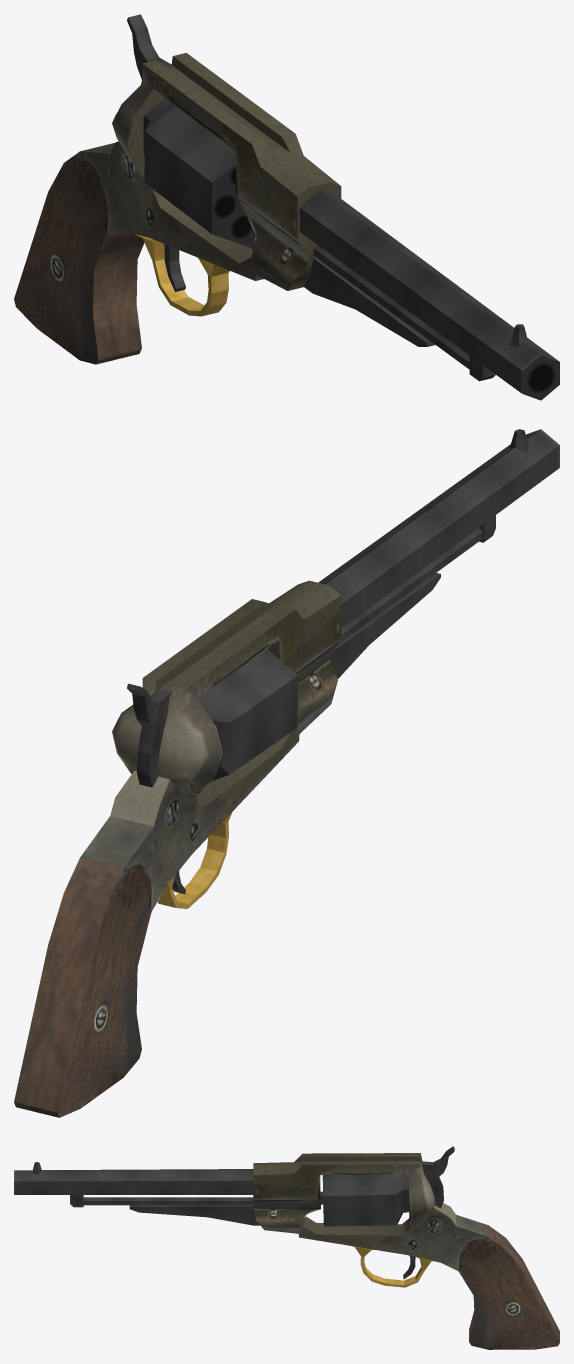
Rendered from ps1_style_revolver.glb.
The picture shows the model from 3 angles, top to bottom: view 1: azimuth 30°, elevation 25°; view 2: azimuth 150°, elevation 25°; view 3: azimuth 270°, elevation 25°; orthographic projection. The views are drawn at different scales.
Parts seen in each view (by area): view 1: Cube, Cylinder, Cylinder.001, Cube.003, Cube.002, Cylinder.002, Cube.001, Cube.005; view 2: Cube, Cylinder, Cylinder.001, Cube.001, Cube.003, Cube.002, Cylinder.002; view 3: Cube, Cylinder, Cylinder.001, Cube.003, Cylinder.002, Cube.001, Cube.002.
Boxes of the visible parts, bbox=[...] form: Cube: bbox=[14, 53, 341, 364]; Cylinder: bbox=[299, 190, 559, 400]; Cylinder.001: bbox=[143, 97, 255, 248]; Cube.003: bbox=[303, 257, 435, 346]; Cube.002: bbox=[135, 234, 229, 316]; Cylinder.002: bbox=[313, 245, 469, 369]; Cube.001: bbox=[127, 14, 172, 84]; Cube.005: bbox=[164, 244, 185, 291]; Cube: bbox=[14, 580, 341, 1117]; Cylinder: bbox=[318, 429, 559, 628]; Cylinder.001: bbox=[197, 649, 297, 780]; Cube.001: bbox=[127, 683, 171, 787]; Cube.003: bbox=[330, 573, 440, 678]; Cube.002: bbox=[157, 812, 232, 908]; Cylinder.002: bbox=[337, 528, 482, 644]; Cube: bbox=[253, 1153, 559, 1349]; Cylinder: bbox=[14, 1169, 253, 1194]; Cylinder.001: bbox=[320, 1174, 409, 1226]; Cube.003: bbox=[129, 1205, 260, 1225]; Cylinder.002: bbox=[83, 1197, 253, 1205]; Cube.001: bbox=[421, 1146, 454, 1208]; Cube.002: bbox=[351, 1246, 433, 1287].
Bounding box in the file's own units: 1.55 × 5.58 × 14.07.
1 material, 1 textured.
